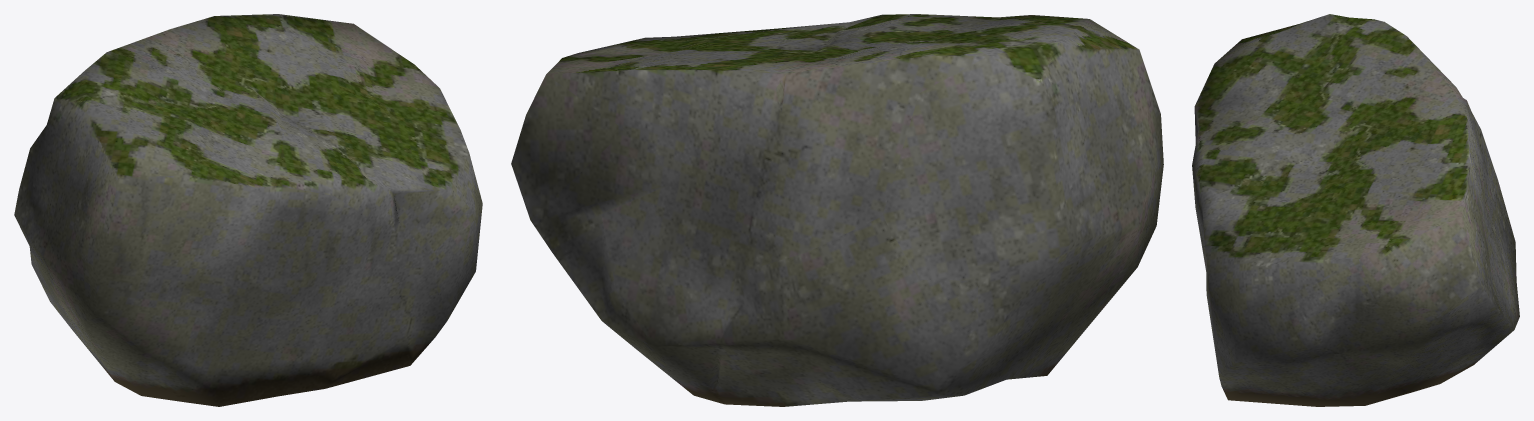
The model's file is GlacialErratic.glb.
3 views of the same model, side by side, from view 1: azimuth 30°, elevation 25°; view 2: azimuth 150°, elevation 25°; view 3: azimuth 270°, elevation 25° (orthographic). The views are drawn at different scales.
Visible parts, largest first — view 1: erratic-boulder; view 2: erratic-boulder; view 3: erratic-boulder.
Boxes of the visible parts, box(x1,y1,x2,y2) form: erratic-boulder: box(14, 14, 482, 406); erratic-boulder: box(511, 14, 1163, 406); erratic-boulder: box(1192, 14, 1519, 406).
Size of the model in its own units: 2.34 by 1.55 by 1.69.
Materials: 1 (1 with a texture image).
